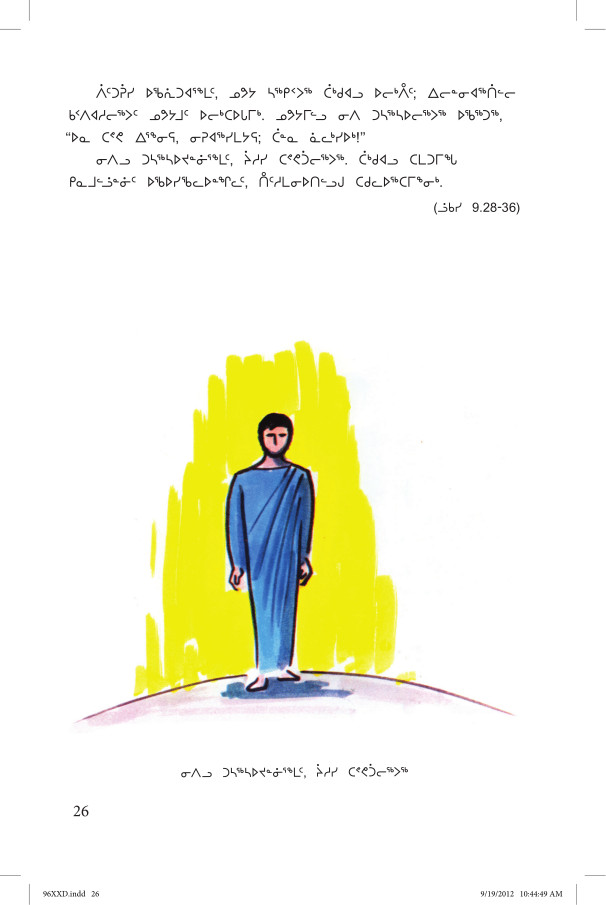inuktitut: (59, 77, 517, 192)
